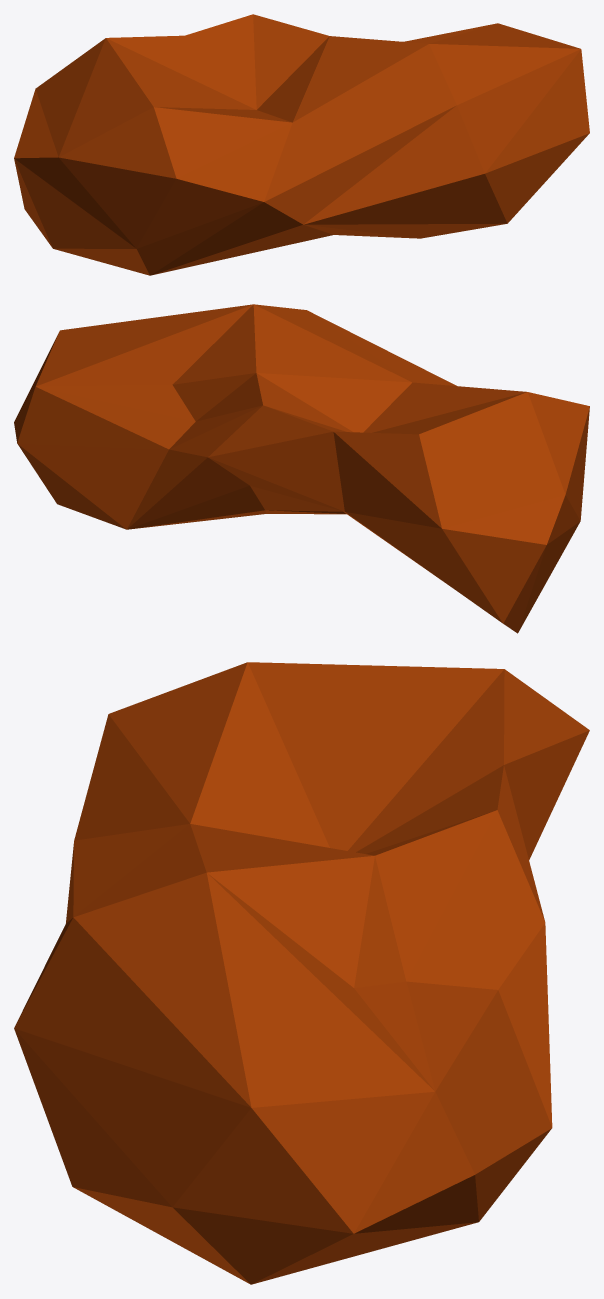
The model's file is RockMedium1.fbx.
3 renders of one model, top to bottom at view 1: azimuth 30°, elevation 25°; view 2: azimuth 150°, elevation 25°; view 3: azimuth 270°, elevation 25°, orthographic. The views are drawn at different scales.
Parts seen in each view (by area): view 1: Cube; view 2: Cube; view 3: Cube.
Part boxes in pixels (bbox=[...]): Cube: bbox=[14, 14, 589, 275]; Cube: bbox=[14, 304, 589, 633]; Cube: bbox=[14, 662, 589, 1284].
Bounding box in the file's own units: 234 × 82.59 × 129.
